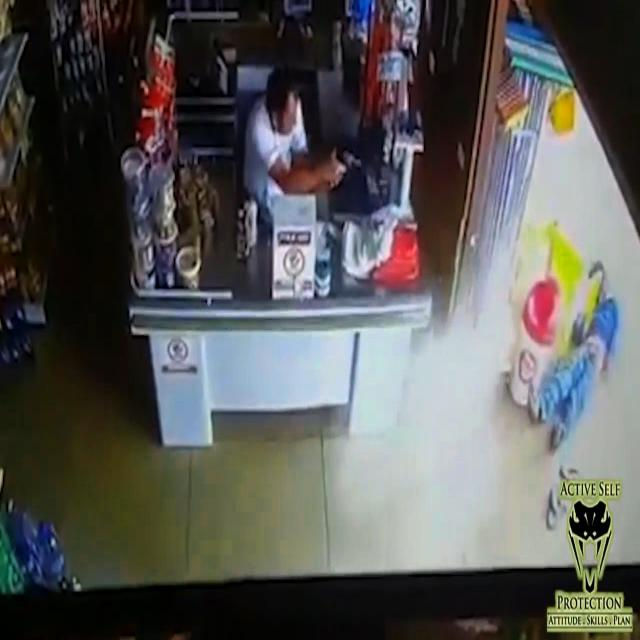gun: (242, 66, 366, 194), (326, 145, 364, 193)
